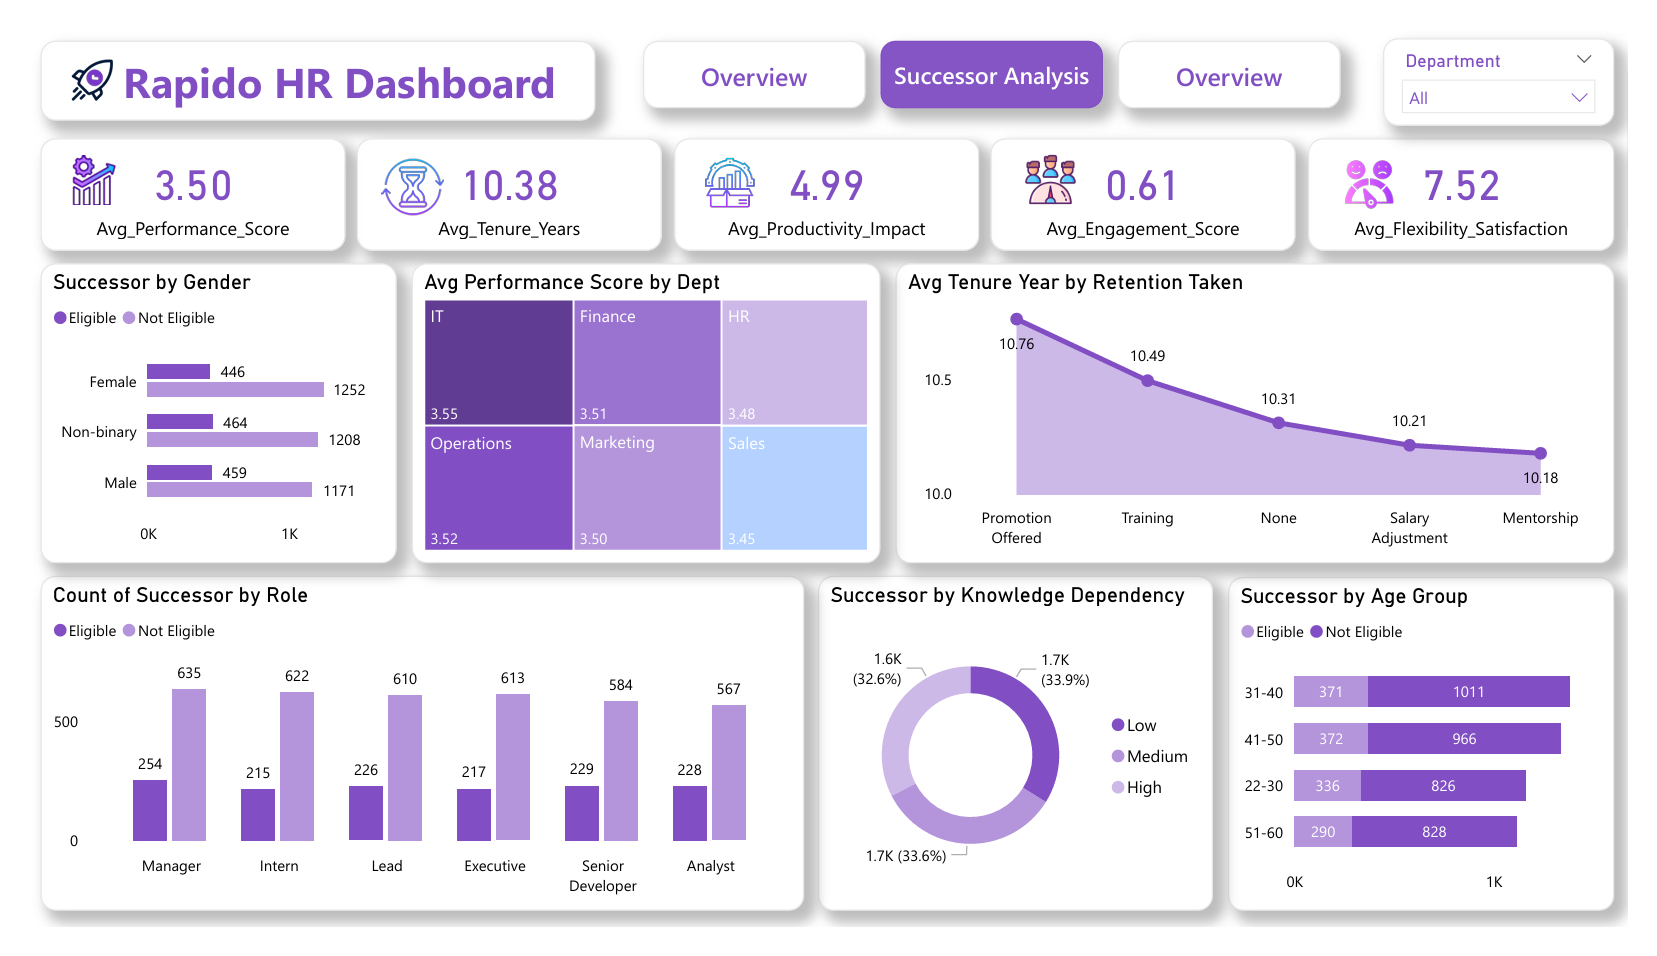

The dashboard page shown, as its layout file describes it:
{"tool":"powerbi","page":{"name":"Successor Analysis","canvas":[1280,720],"ordinal":1},"visuals":[{"type":"barChart","title":"Successor by Age Group","fields":{"Y":["CountNonNull(Rapido DataSet.Successor)"],"Series":["Rapido DataSet.Successor"],"Category":["Rapido DataSet.Age_Group"]},"box":[959.6,440.5,308.9,266],"z":0},{"type":"donutChart","title":"Successor by Knowledge Dependency","fields":{"Y":["CountNonNull(Rapido DataSet.Successor)"],"Category":["Rapido DataSet.Knowledge_Dependency_Level"]},"box":[632.1,439.1,316.1,267.4],"z":1000},{"type":"clusteredColumnChart","title":"Count of Successor by Role","fields":{"Category":["Rapido DataSet.Role_Title"],"Y":["CountNonNull(Rapido DataSet.Successor)"],"Series":["Rapido DataSet.Successor"]},"box":[10,439.1,610.7,267.4],"z":2000},{"type":"shape","box":[9.9,11.3,443.6,63.8],"z":3000},{"type":"card","fields":{"Values":["Avg(Rapido DataSet.Performance_Score)"]},"box":[9.9,88.7,244,90],"z":4000},{"type":"card","fields":{"Values":["Avg(Rapido DataSet.Tenure_Years)"]},"box":[263.4,88.7,244,90],"z":5000},{"type":"card","fields":{"Values":["Avg(Rapido DataSet.Productivity_Impact_Score)"]},"box":[517,88.7,244,90],"z":6000},{"type":"card","fields":{"Values":["Avg(Rapido DataSet.Engagement_Score)"]},"box":[770.5,88.7,244,90],"z":7000},{"type":"card","fields":{"Values":["Avg(Rapido DataSet.Flexibility_Satisfaction)"]},"box":[1024,88.7,244.6,90.1],"z":8000},{"type":"slicer","fields":{"Values":["Rapido DataSet.Department"]},"box":[1084.3,8.5,184.3,70.9],"z":9000},{"type":"shape","box":[491.8,11.3,178.6,53.9],"z":10000},{"type":"shape","box":[681.7,11.3,178.6,53.9],"z":11000},{"type":"shape","box":[871.7,11.3,178.6,53.9],"z":12000},{"type":"image","box":[28.3,19.8,46.8,45.4],"z":13000},{"type":"image","box":[535.6,98.9,51.1,51.1],"z":14000},{"type":"image","box":[790,95.6,55.6,52],"z":15000},{"type":"image","box":[1045.6,95.6,54.4,60],"z":16000},{"type":"image","box":[278,95,60,65],"z":17000},{"type":"image","box":[28.3,93.3,50,60],"z":18000},{"type":"areaChart","title":"Avg Tenure Year by Retention Taken","fields":{"Category":["Rapido DataSet.Retention_Action_Taken"],"Y":["Avg(Rapido DataSet.Tenure_Years)"]},"box":[693.6,188.8,574.9,240.3],"z":19000},{"type":"clusteredBarChart","title":"Successor by Gender","fields":{"Category":["Rapido DataSet.Gender","Rapido DataSet.Department"],"Y":["CountNonNull(Rapido DataSet.Successor)"],"Series":["Rapido DataSet.Successor"]},"box":[10,188.8,284.6,240.3],"z":20000},{"type":"treemap","title":"Avg Performance Score by Dept","fields":{"Group":["Rapido DataSet.Department"],"Values":["Avg(Rapido DataSet.Performance_Score)"]},"box":[307.5,188.8,374.7,240.3],"z":21000}]}

Visuals, with their boxes in screenshot pixels (x1, y1, x2, y2), scaled from the page's 1280x720 canvas onto the 1657x956 screenshot:
"Successor by Age Group" barChart: Rect(1242, 585, 1642, 938)
"Successor by Knowledge Dependency" donutChart: Rect(818, 583, 1227, 938)
"Count of Successor by Role" clusteredColumnChart: Rect(13, 583, 804, 938)
shape: Rect(13, 15, 587, 100)
card - Avg(Rapido DataSet.Performance_Score): Rect(13, 118, 329, 237)
card - Avg(Rapido DataSet.Tenure_Years): Rect(341, 118, 657, 237)
card - Avg(Rapido DataSet.Productivity_Impact_Score): Rect(669, 118, 985, 237)
card - Avg(Rapido DataSet.Engagement_Score): Rect(997, 118, 1313, 237)
card - Avg(Rapido DataSet.Flexibility_Satisfaction): Rect(1326, 118, 1642, 237)
slicer - Rapido DataSet.Department: Rect(1404, 11, 1642, 105)
shape: Rect(637, 15, 868, 87)
shape: Rect(882, 15, 1114, 87)
shape: Rect(1128, 15, 1360, 87)
image: Rect(37, 26, 97, 87)
image: Rect(693, 131, 760, 199)
image: Rect(1023, 127, 1095, 196)
image: Rect(1354, 127, 1424, 207)
image: Rect(360, 126, 438, 212)
image: Rect(37, 124, 101, 204)
"Avg Tenure Year by Retention Taken" areaChart: Rect(898, 251, 1642, 570)
"Successor by Gender" clusteredBarChart: Rect(13, 251, 381, 570)
"Avg Performance Score by Dept" treemap: Rect(398, 251, 883, 570)
